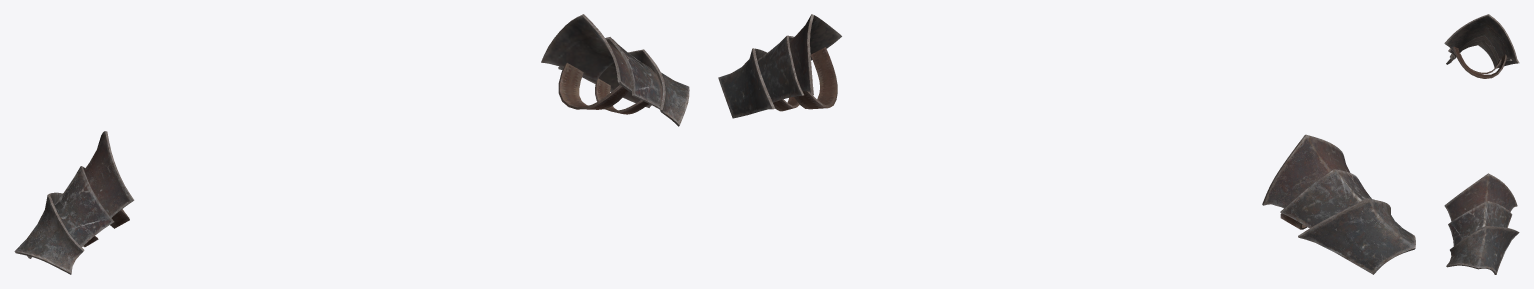
File: sk_dg_uruk_bracer_heavy_d.fbx
3 views of the same model, side by side, from view 1: azimuth 30°, elevation 25°; view 2: azimuth 150°, elevation 25°; view 3: azimuth 270°, elevation 25° (orthographic). The views are drawn at different scales.
Visible parts, largest first — view 1: sk_dg_uruk_bracer_heavy_d; view 2: sk_dg_uruk_bracer_heavy_d; view 3: sk_dg_uruk_bracer_heavy_d.
Boxes of the visible parts, bbox=[...] form: sk_dg_uruk_bracer_heavy_d: bbox=[14, 14, 689, 274]; sk_dg_uruk_bracer_heavy_d: bbox=[718, 14, 1415, 274]; sk_dg_uruk_bracer_heavy_d: bbox=[1444, 14, 1519, 274].
Bounding box in the file's own units: 1.48 × 0.2101 × 0.24.
Materials: 1 (1 with a texture image).
